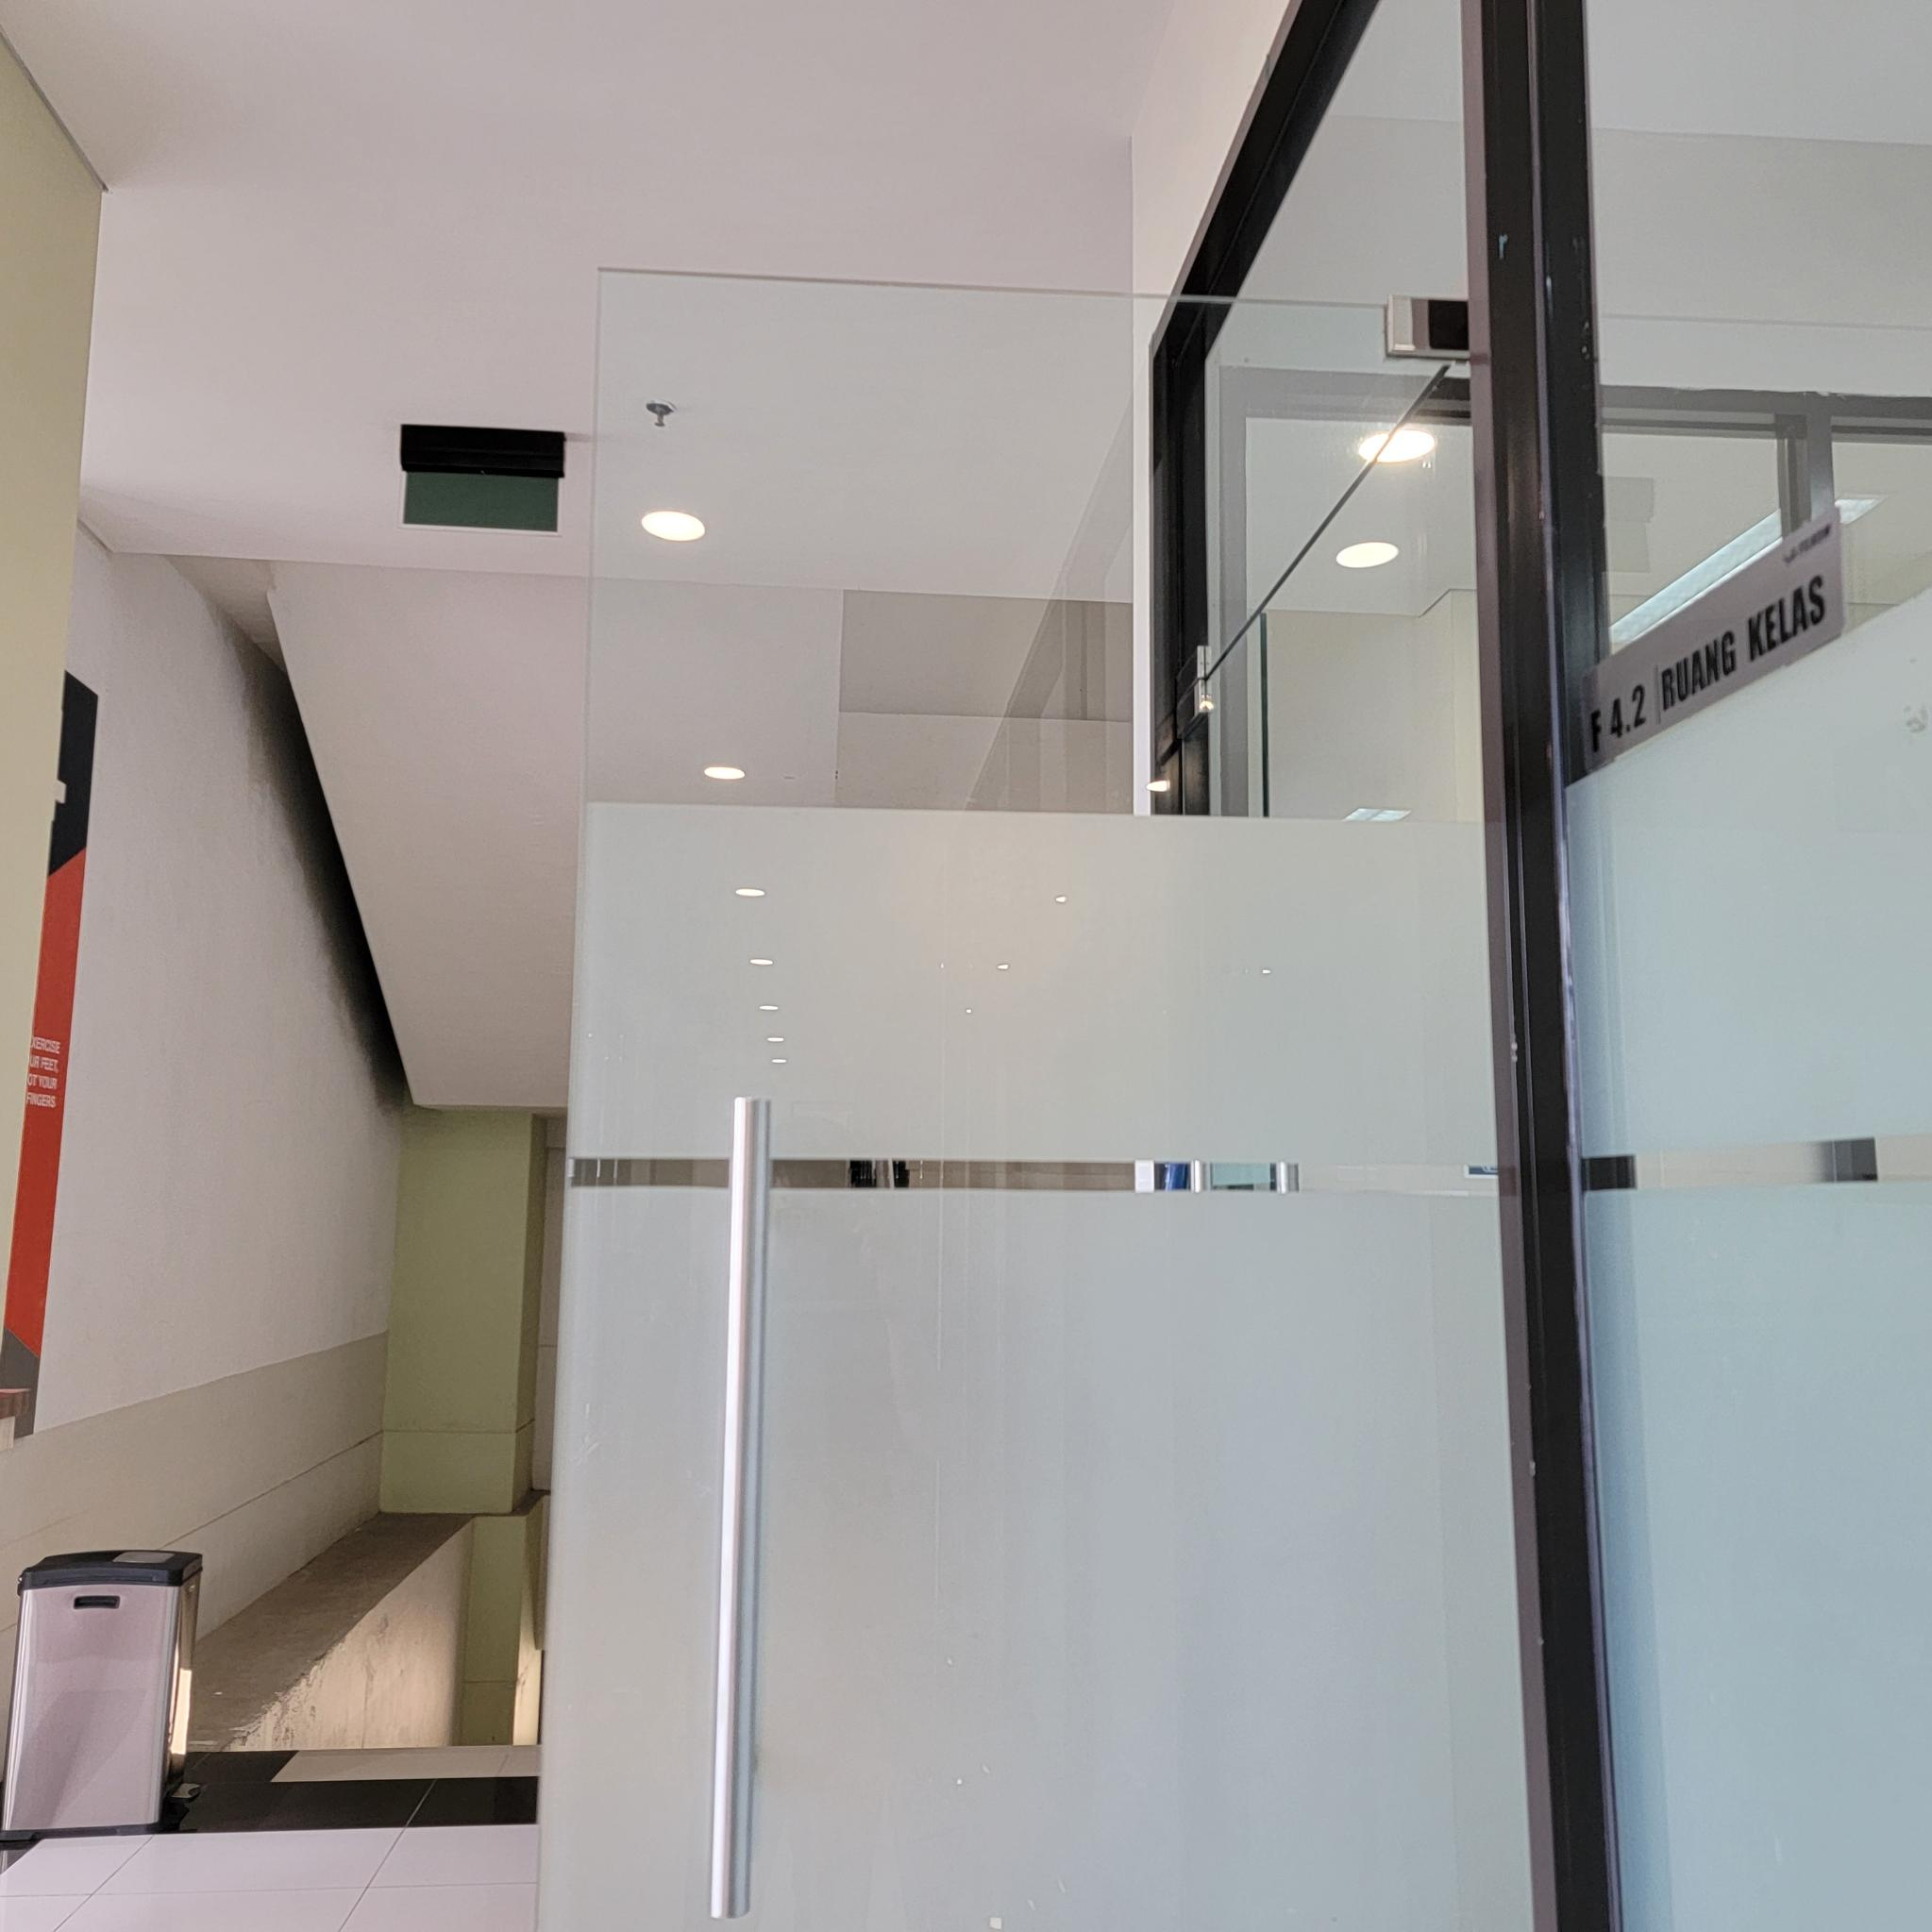plate: (1578, 506, 1847, 773)
